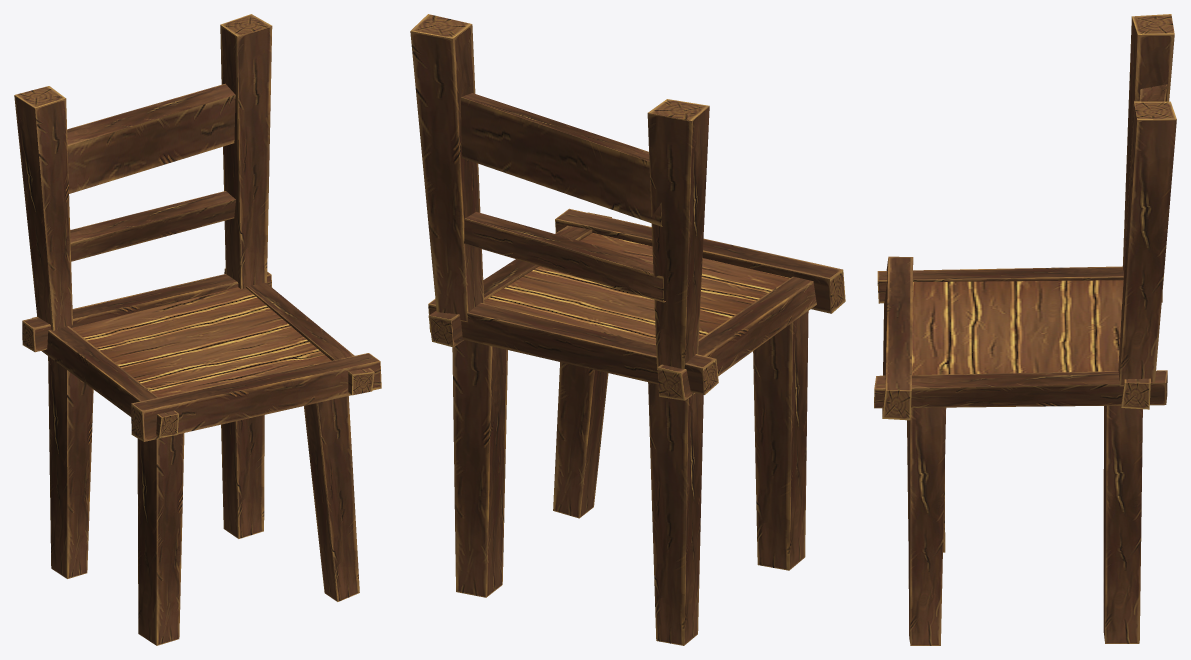
File: wooden_chair_02.fbx
The picture shows the model from 3 angles, left to right: view 1: azimuth 30°, elevation 25°; view 2: azimuth 150°, elevation 25°; view 3: azimuth 270°, elevation 25°; orthographic projection. The views are drawn at different scales.
Visible parts, largest first — view 1: wooden_chair_02; view 2: wooden_chair_02; view 3: wooden_chair_02.
Part boxes in pixels (bbox=[...]): wooden_chair_02: bbox=[14, 14, 381, 645]; wooden_chair_02: bbox=[410, 14, 845, 645]; wooden_chair_02: bbox=[874, 14, 1176, 645].
Size of the model in its own units: 605 by 594 by 1165.
Materials: 1 (1 with a texture image).
